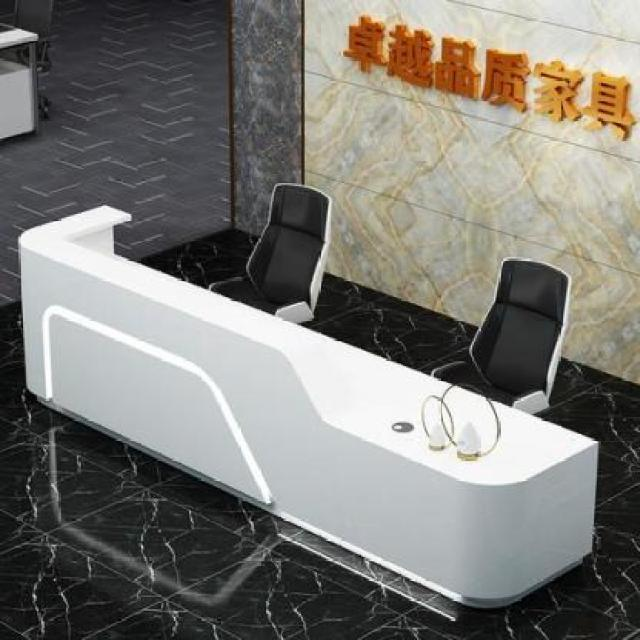frontdesk: (15, 175, 602, 613)
